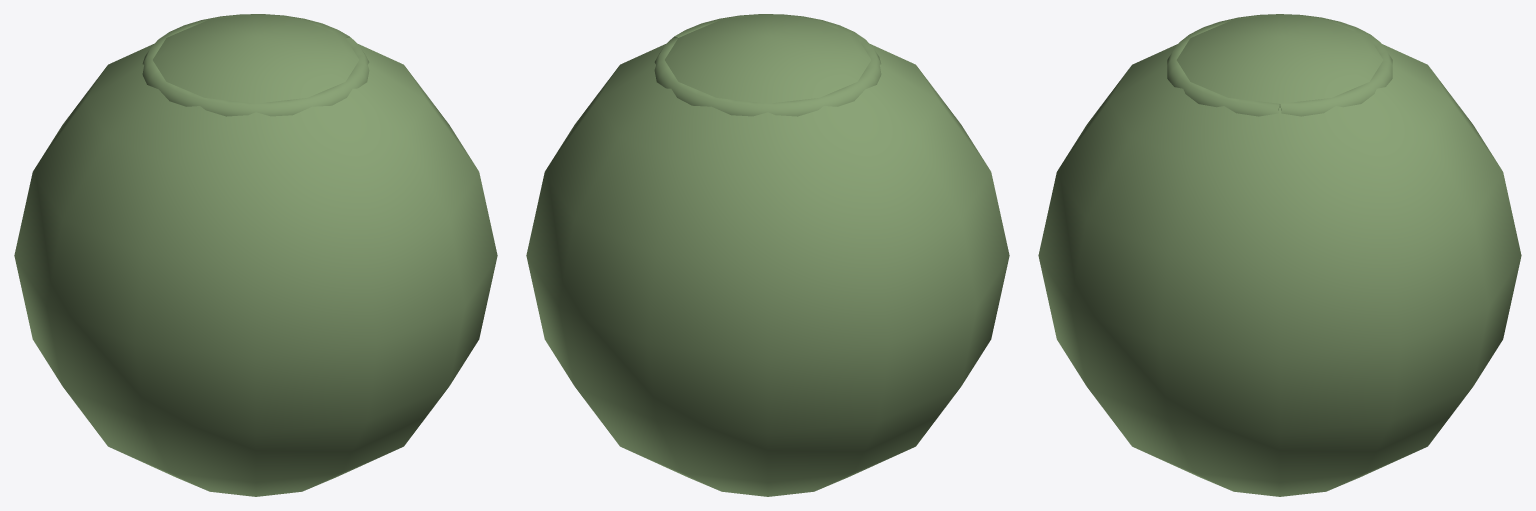
File: zoo-and-safari-park-builder-enrichment-ball-04566035__21473.glb
3 views of the same model, side by side, from view 1: azimuth 30°, elevation 25°; view 2: azimuth 150°, elevation 25°; view 3: azimuth 270°, elevation 25° (orthographic).
Parts seen in each view (by area): view 1: enrichment-ball; view 2: enrichment-ball; view 3: enrichment-ball.
Boxes of the visible parts, x1,y1,x2,y2 form: enrichment-ball: [14, 14, 497, 496]; enrichment-ball: [526, 14, 1009, 496]; enrichment-ball: [1038, 14, 1521, 496].
Size of the model in its own units: 0.72 by 0.72 by 0.72.
